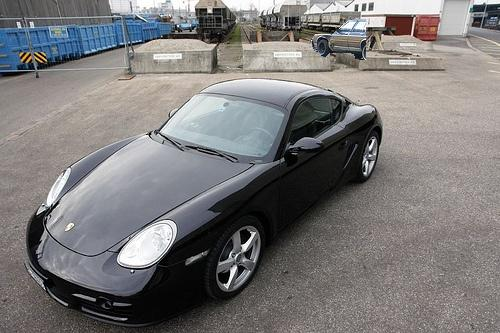tampered: (311, 20, 366, 60)
